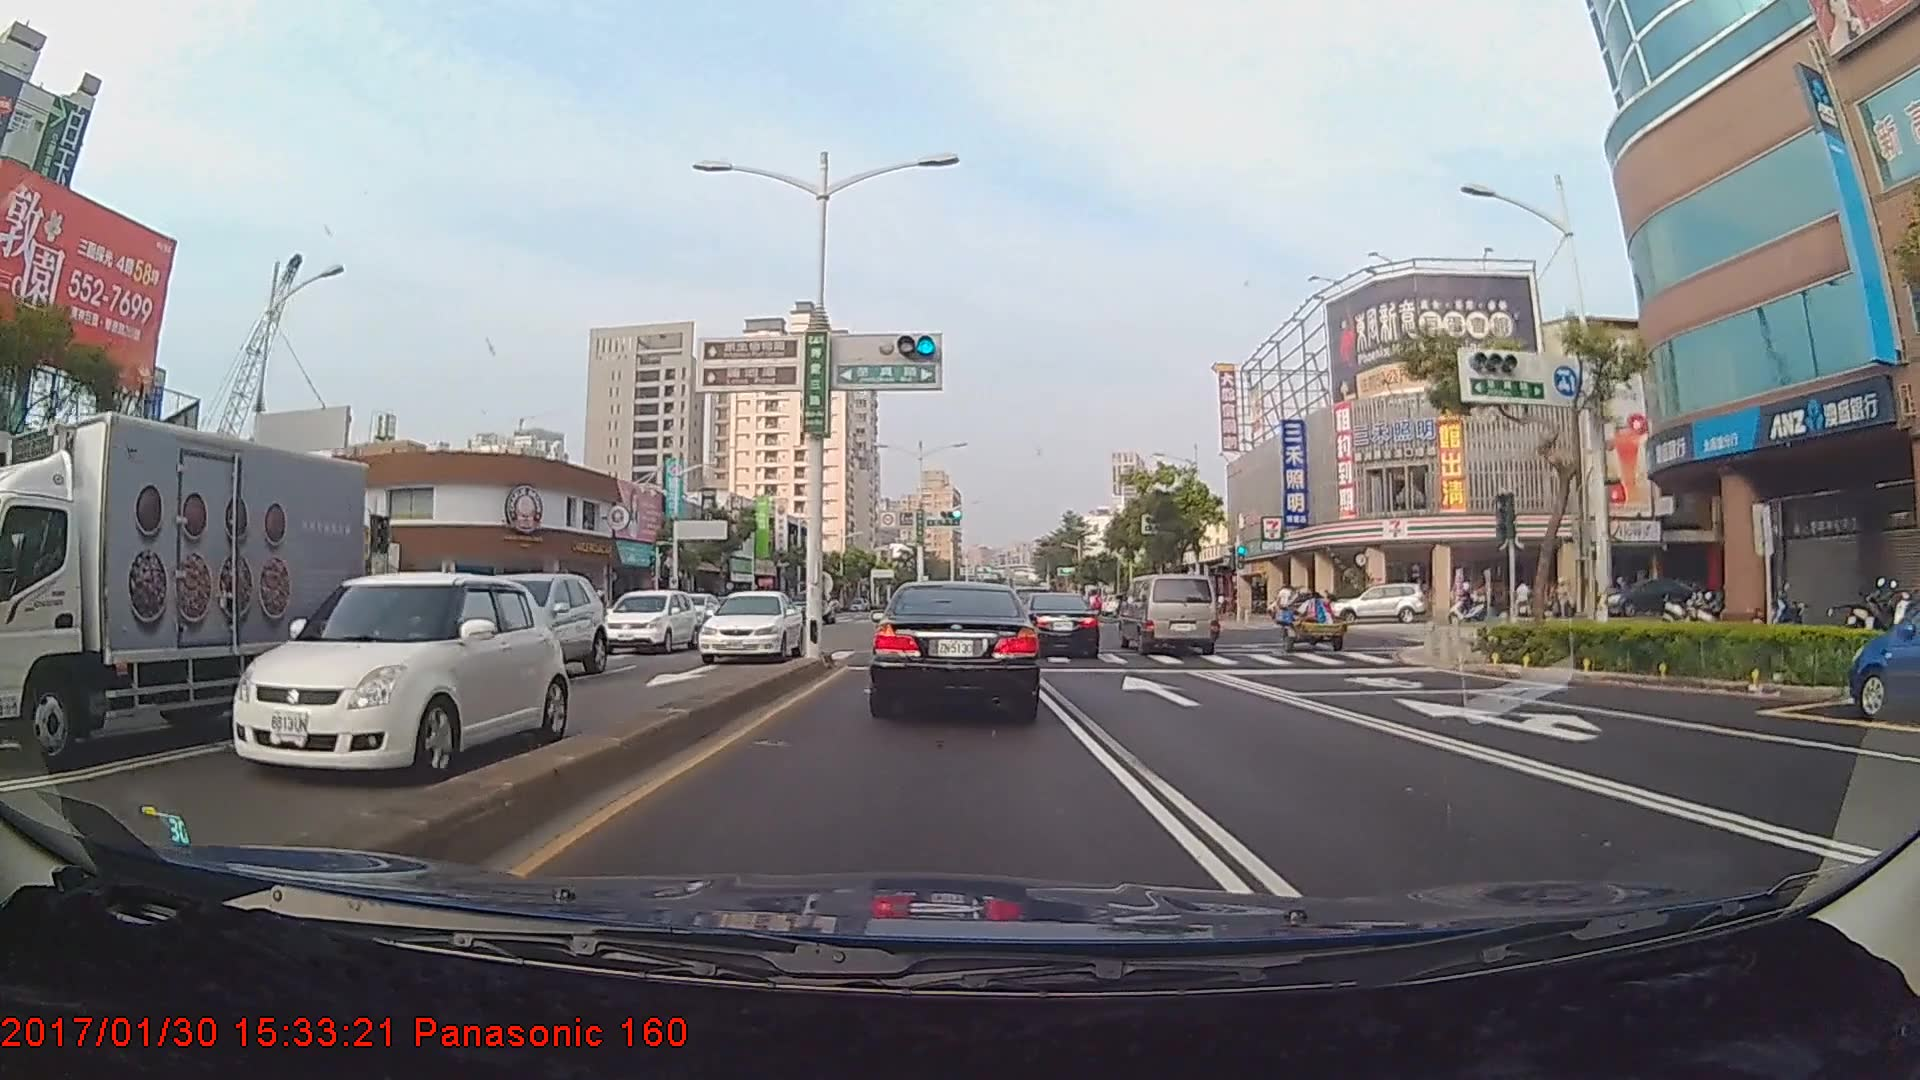vehicle: (0, 407, 363, 752), (193, 560, 537, 798), (872, 576, 1040, 719), (434, 564, 607, 676), (1844, 584, 1920, 717), (691, 583, 804, 662), (1120, 571, 1221, 659), (589, 583, 694, 655), (1019, 592, 1101, 659), (1333, 582, 1431, 626)
